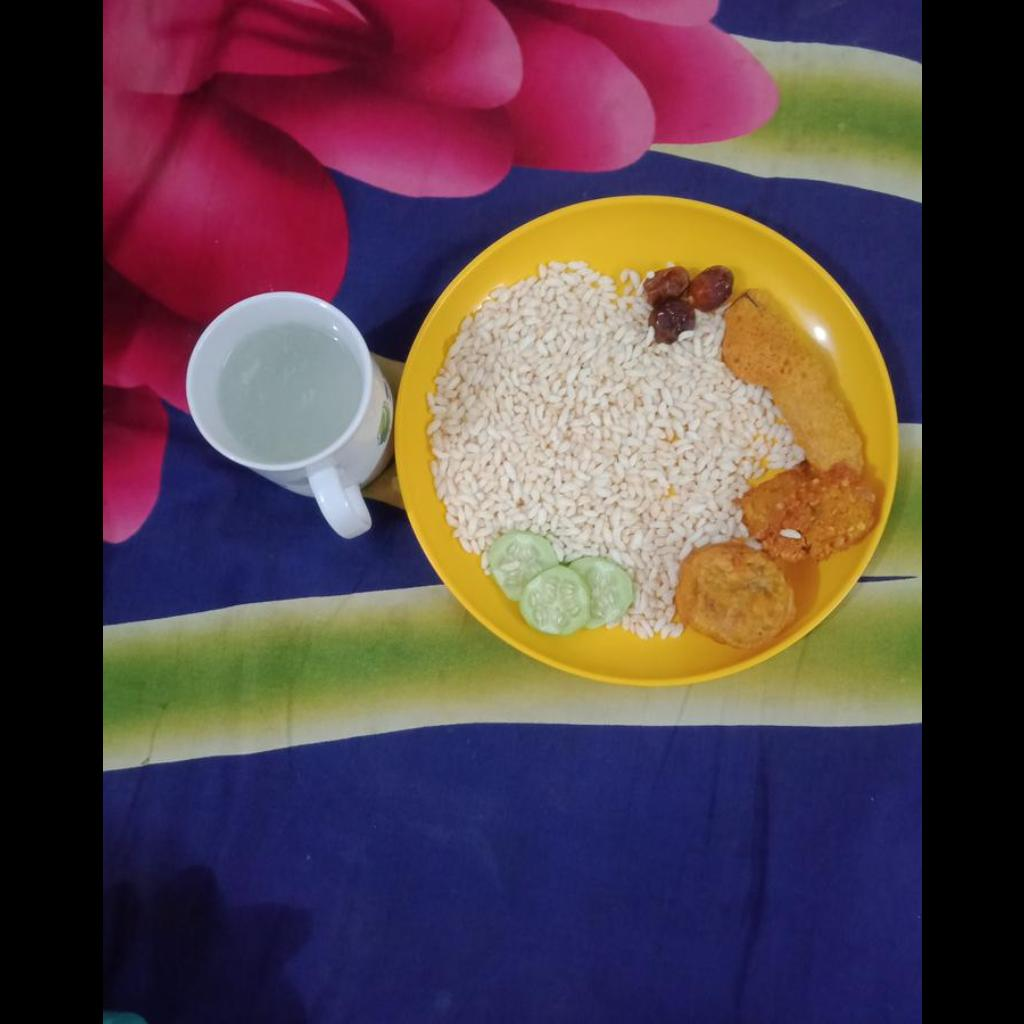begun-vaji: (721, 291, 862, 470)
beguni: (721, 294, 862, 470)
chop-alu: (673, 540, 793, 649)
cucumber: (483, 540, 630, 633)
dates: (644, 266, 731, 342)
piyaju: (741, 461, 877, 562)
puffed-rice: (425, 262, 802, 637)
